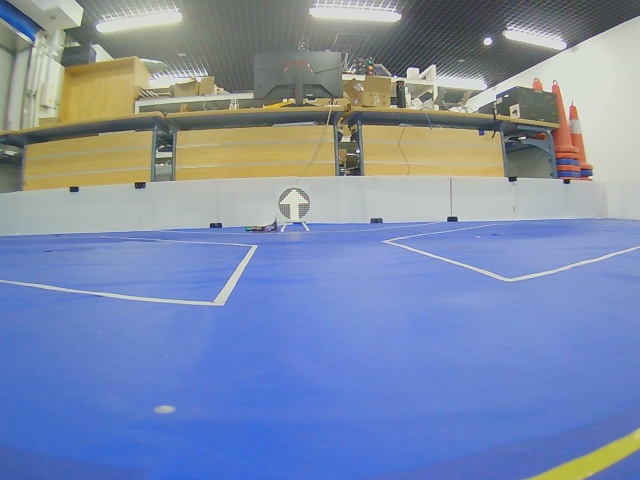straight_yellow: (278, 188, 310, 221)
